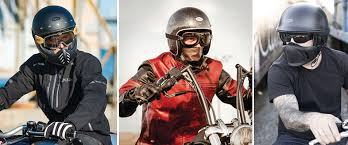with_helmet: (30, 3, 78, 41), (274, 6, 332, 33), (164, 6, 214, 34)
